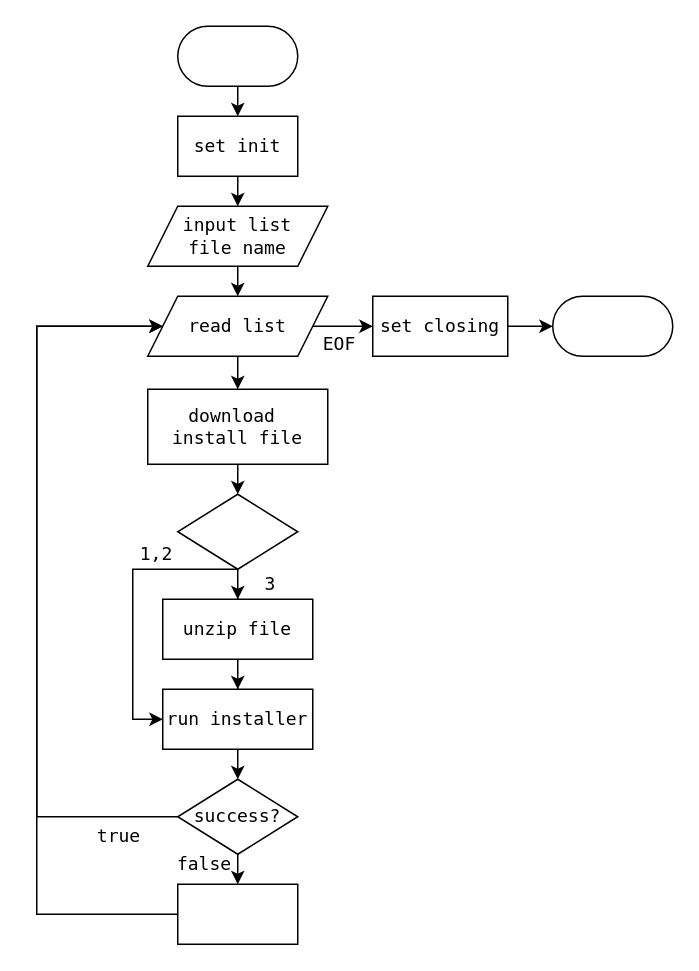
The diagram is 699 pixels wide and 971 high, and some of its shapes have lost their labels. The shapes that lost their labels are listed below. From the top down, each one's centre as x and y in pixels, then its label:
At (x=237, y=55): "start".
At (x=612, y=325): "end".
At (x=237, y=531): "type?".
At (x=237, y=913): "write to error log".
